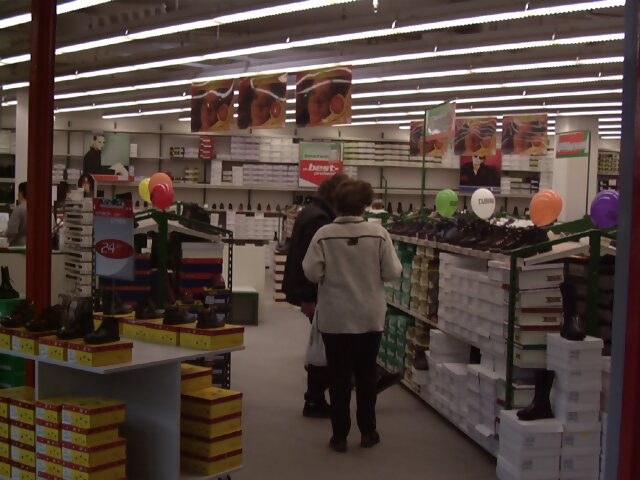person: (304, 176, 401, 456)
